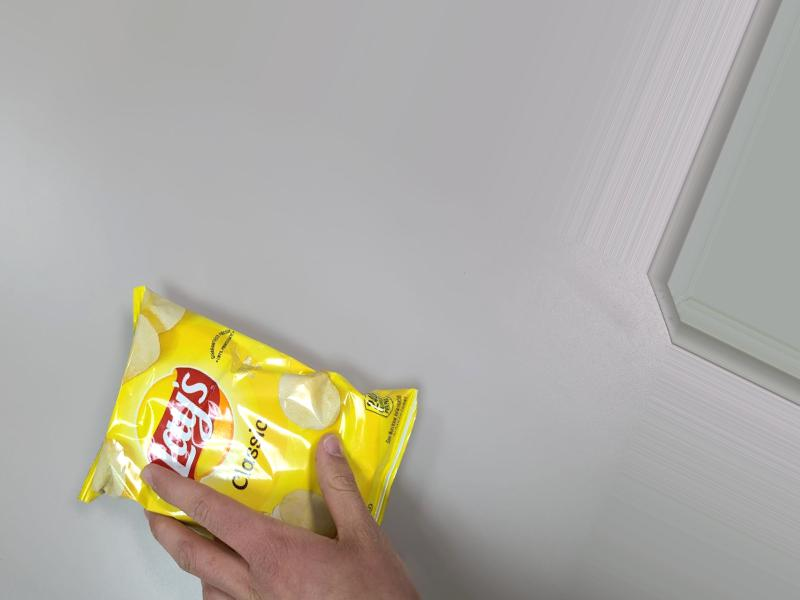lays: (65, 311, 424, 548)
